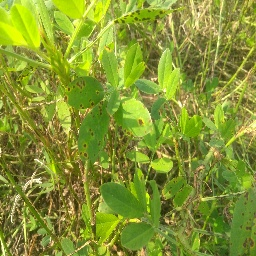GroundNut_Leaf: (1, 1, 43, 52), (79, 103, 110, 159), (230, 186, 256, 252), (102, 182, 147, 219), (118, 99, 153, 137), (115, 6, 170, 25), (123, 41, 144, 87), (71, 77, 108, 103), (121, 223, 152, 248), (49, 1, 85, 20), (179, 109, 201, 137), (157, 48, 171, 89), (163, 176, 184, 197), (151, 159, 173, 174), (214, 104, 225, 133), (125, 152, 149, 165)
